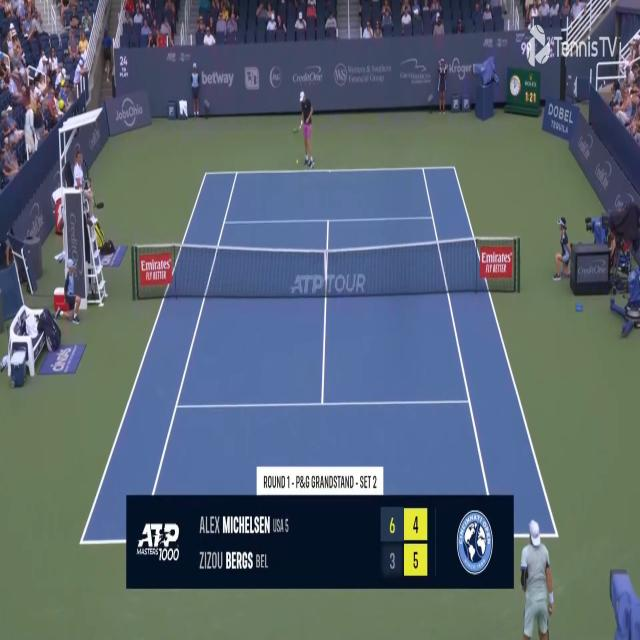tennis-player: (519, 516, 555, 640), (291, 90, 316, 170)
